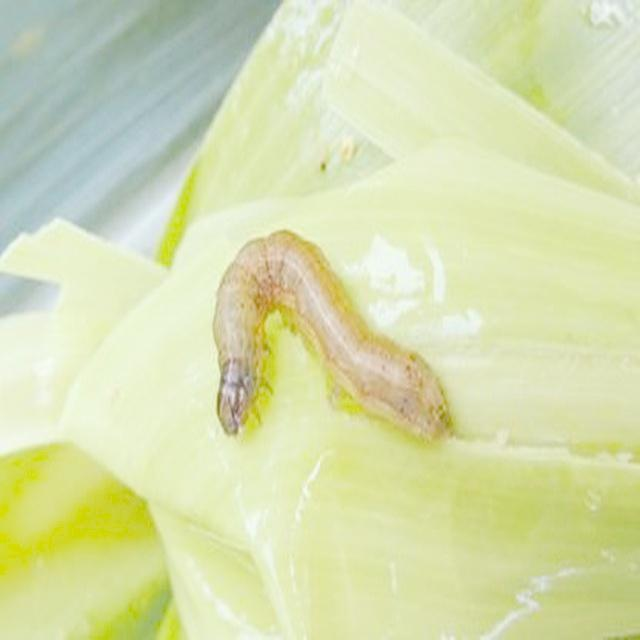Plaga: (208, 223, 457, 450)
